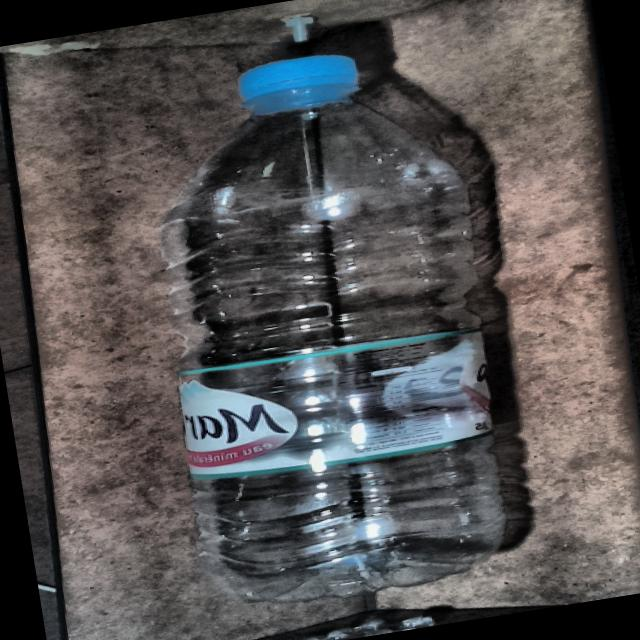plastic bottle: (161, 55, 508, 604)
